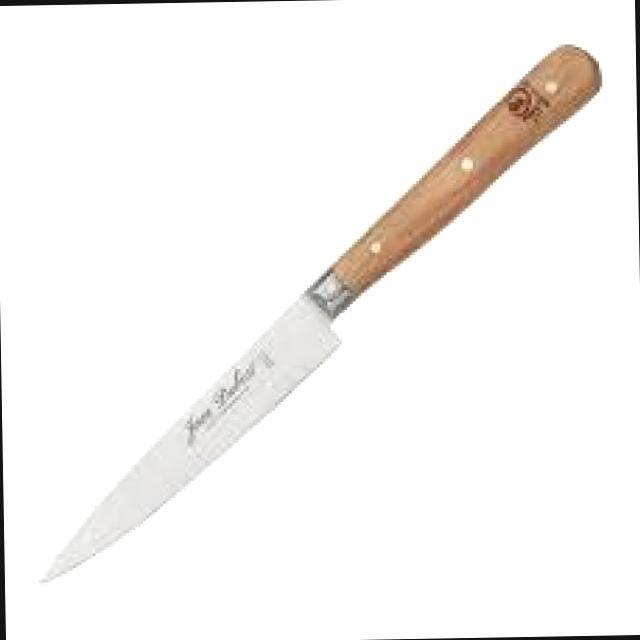Knife: (29, 36, 639, 587)
